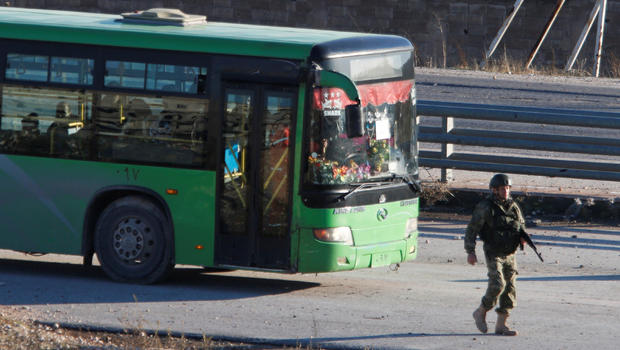bus: (1, 4, 421, 286)
